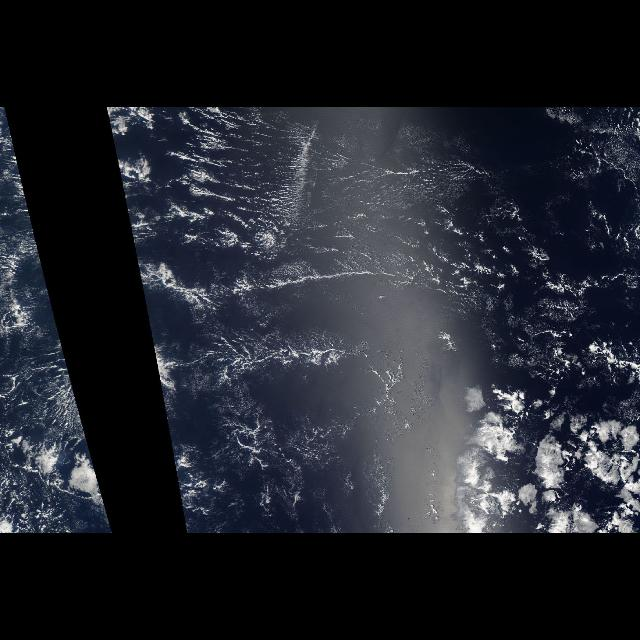Flower: (440, 372, 638, 530)
Sugar: (148, 108, 640, 524)
